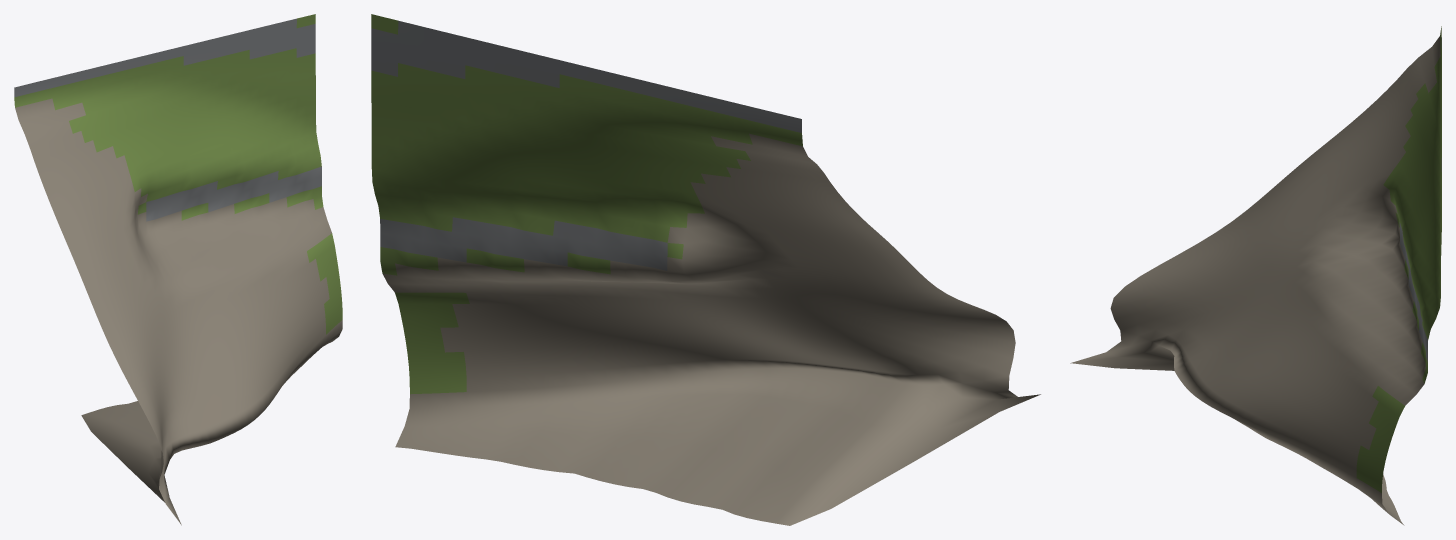
File: island_terrain_07_05.obj
3 views of the same model, side by side, from view 1: azimuth 30°, elevation 25°; view 2: azimuth 150°, elevation 25°; view 3: azimuth 270°, elevation 25° (orthographic). The views are drawn at different scales.
Visible parts, largest first — view 1: island_terrain_07_05; view 2: island_terrain_07_05; view 3: island_terrain_07_05.
Boxes of the visible parts, x1=… form: island_terrain_07_05: x1=14, y1=14, x2=342, y2=525; island_terrain_07_05: x1=371, y1=14, x2=1040, y2=525; island_terrain_07_05: x1=1070, y1=26, x2=1441, y2=525.
Size of the model in its own units: 256 by 256 by 247.
